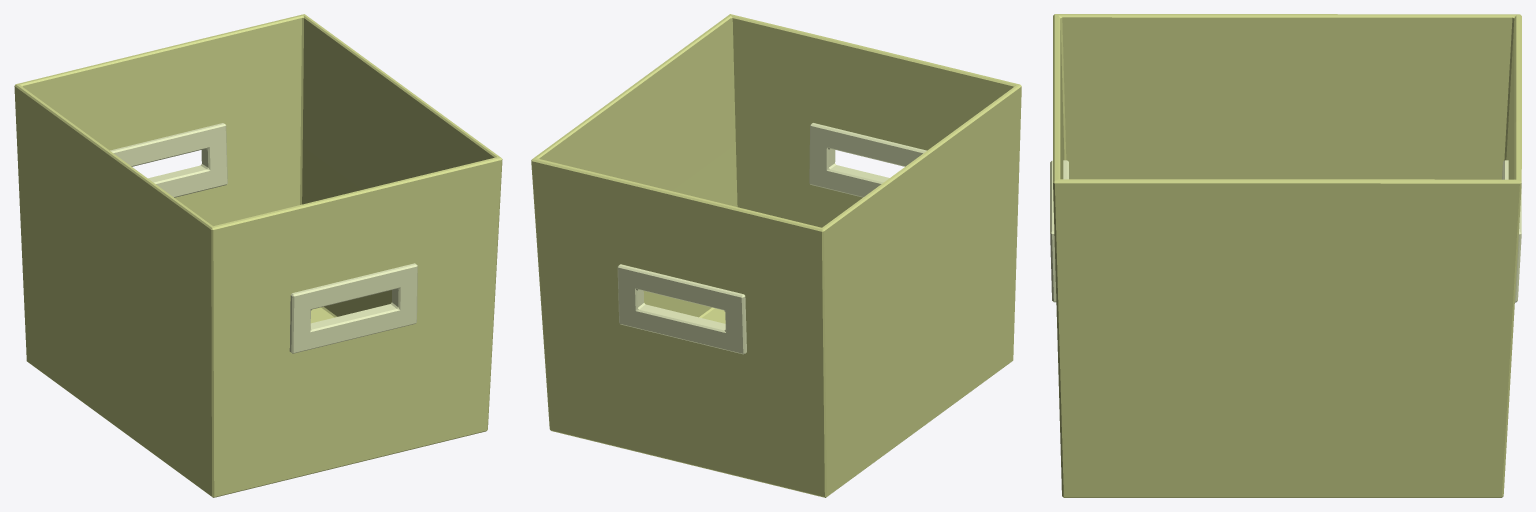
3 views of the same model, side by side, from view 1: azimuth 30°, elevation 25°; view 2: azimuth 150°, elevation 25°; view 3: azimuth 270°, elevation 25° (orthographic). The views are drawn at different scales.
Visible parts, largest first — view 1: file_box_2; view 2: file_box_2; view 3: file_box_2.
Boxes of the visible parts, x1,y1,x2,y2 form: file_box_2: [14, 14, 502, 497]; file_box_2: [531, 14, 1021, 497]; file_box_2: [1050, 14, 1521, 497].
Bounding box in the file's own units: 0.2812 × 0.2528 × 0.3337.
